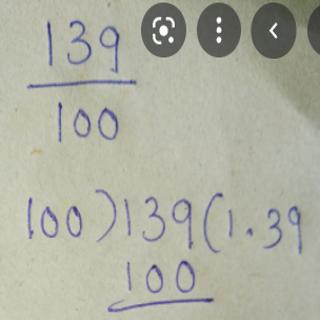.: (243, 226, 261, 240)
0: (96, 105, 120, 143), (175, 257, 196, 295), (74, 106, 93, 140), (40, 205, 60, 237), (66, 207, 82, 239), (145, 265, 163, 292)
1: (18, 196, 37, 246), (44, 19, 58, 72), (123, 194, 135, 238), (56, 99, 67, 143), (224, 208, 236, 239), (124, 256, 133, 294)
3: (66, 19, 88, 67), (141, 197, 163, 245), (263, 208, 284, 251)
9: (168, 196, 195, 250), (101, 23, 121, 73), (286, 206, 305, 255)
